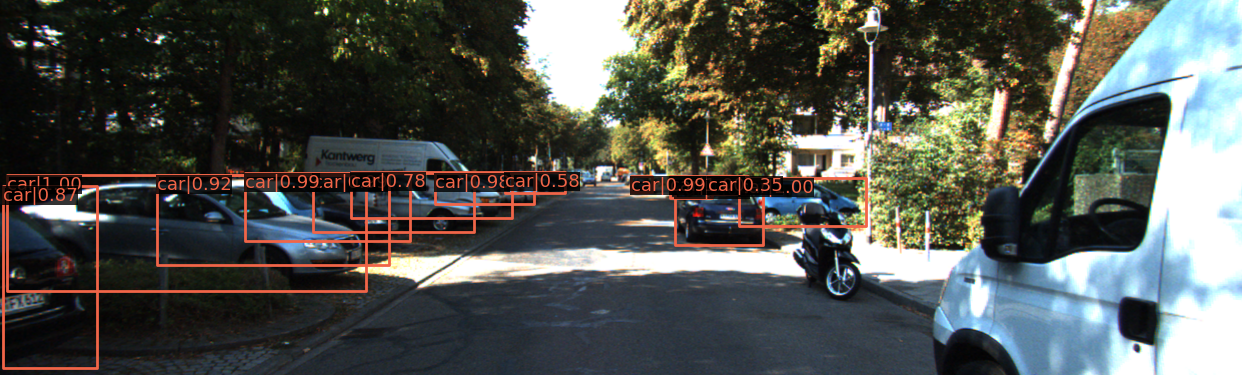car: (17, 173, 369, 290), (109, 179, 330, 265), (174, 177, 403, 254), (308, 178, 483, 236), (676, 185, 765, 249), (752, 179, 862, 225), (630, 178, 652, 194)
